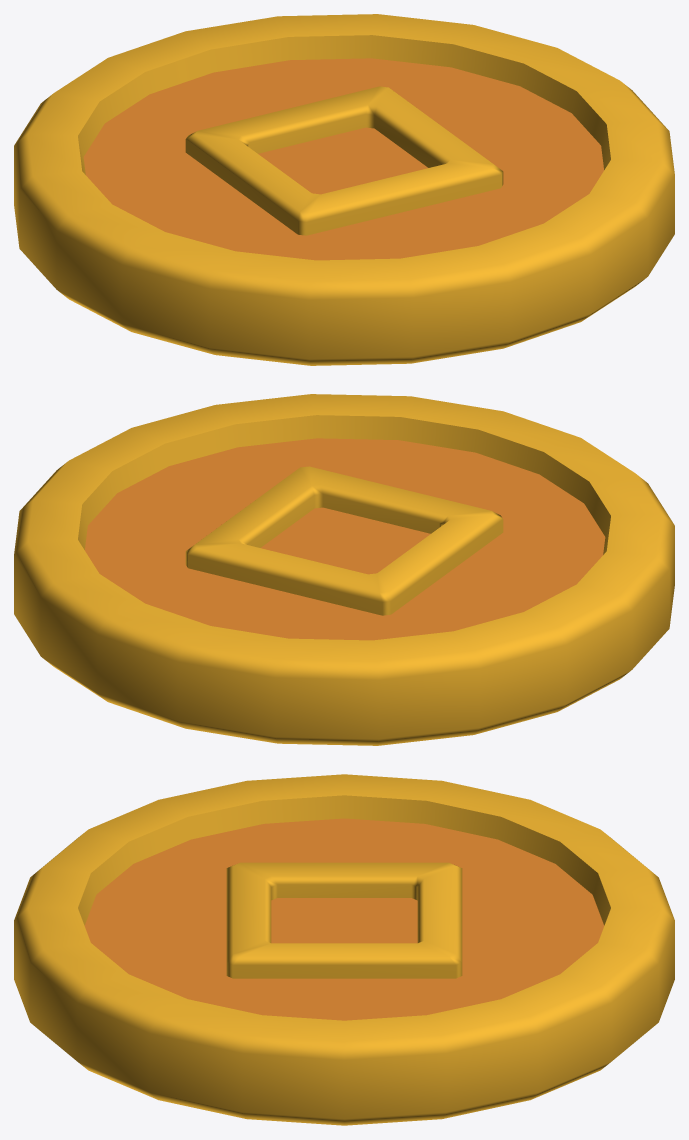
File: SM_Rewards_Coin.fbx
The picture shows the model from 3 angles, top to bottom: view 1: azimuth 30°, elevation 25°; view 2: azimuth 150°, elevation 25°; view 3: azimuth 270°, elevation 25°; orthographic projection.
Visible parts, largest first — view 1: SM_Rewards_Coin; view 2: SM_Rewards_Coin; view 3: SM_Rewards_Coin.
Boxes of the visible parts, x1=… form: SM_Rewards_Coin: x1=14, y1=14, x2=674, y2=365; SM_Rewards_Coin: x1=14, y1=394, x2=674, y2=745; SM_Rewards_Coin: x1=14, y1=774, x2=674, y2=1125.
Bounding box in the file's own units: 19.52 × 2.82 × 19.52.
